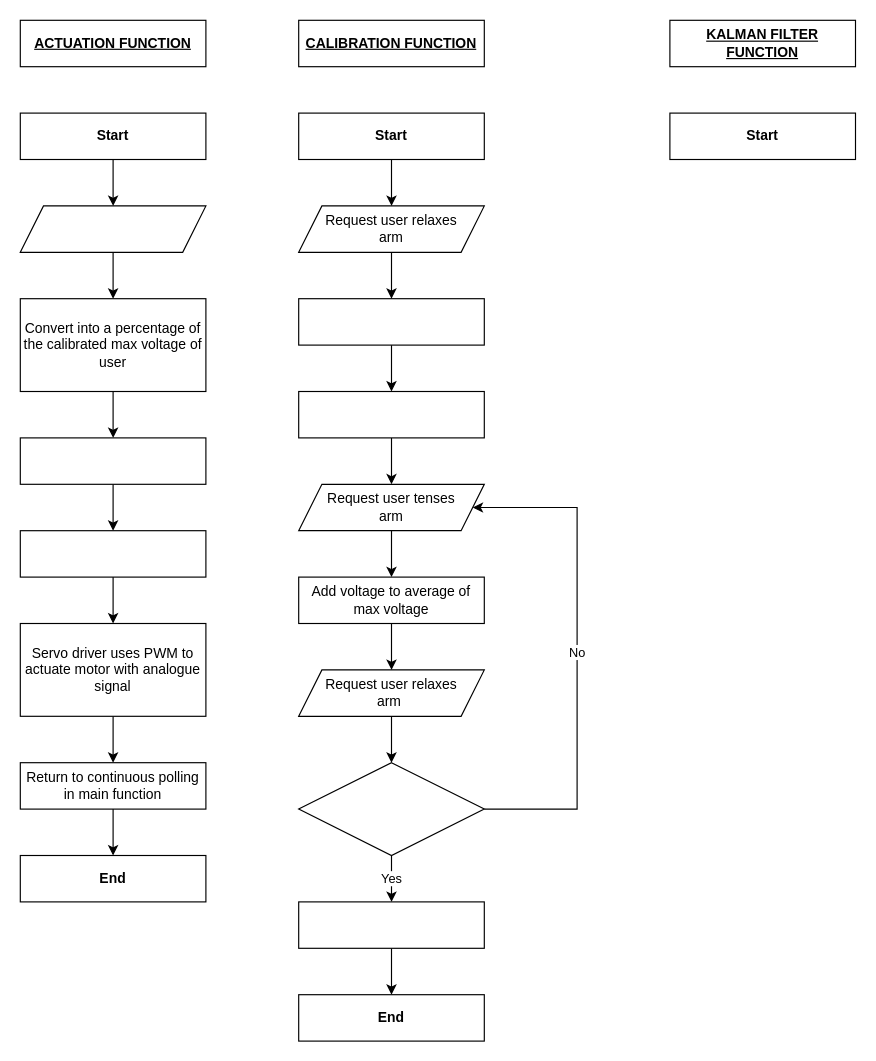
This 876x1061 diagram has some shape labels left out. The shapes that lost their labels are listed below. From the top down, each one's box as (x1, y1, x2, y2) in pixels, then its label:
(19, 205, 206, 252): Read voltage from sensor output
(298, 298, 484, 345): Return hand to open rest
(298, 390, 484, 438): Run interrupt and put hand in calibration mode
(19, 437, 206, 484): Compute Pulse Width Modulation (PWM) conditions
(19, 530, 206, 577): Send PWM information to servo driver
(298, 762, 484, 855): Completed X many times?
(298, 901, 484, 948): Set max input voltage reference to new value
